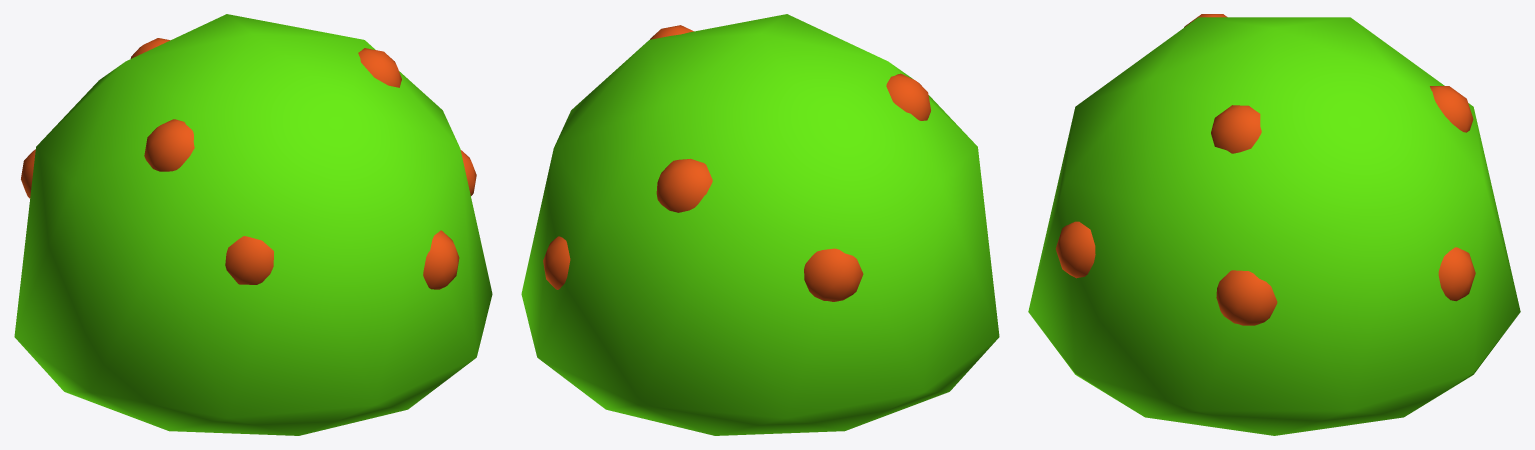
File: bush1.fbx
3 renders of one model, left to right at view 1: azimuth 30°, elevation 25°; view 2: azimuth 150°, elevation 25°; view 3: azimuth 270°, elevation 25°, orthographic.
Visible parts, largest first — view 1: Icosphere.003; view 2: Icosphere.003; view 3: Icosphere.003.
Part boxes in pixels (<box>): Icosphere.003: <box>14,14,492,435</box>; Icosphere.003: <box>521,14,999,435</box>; Icosphere.003: <box>1028,14,1520,435</box>.
Size of the model in its own units: 159 by 130 by 166.
